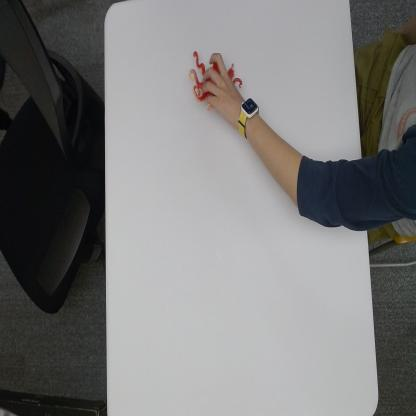Arm: (258, 119, 410, 236)
Hand: (202, 51, 240, 122)
Octopus: (187, 48, 243, 110)
